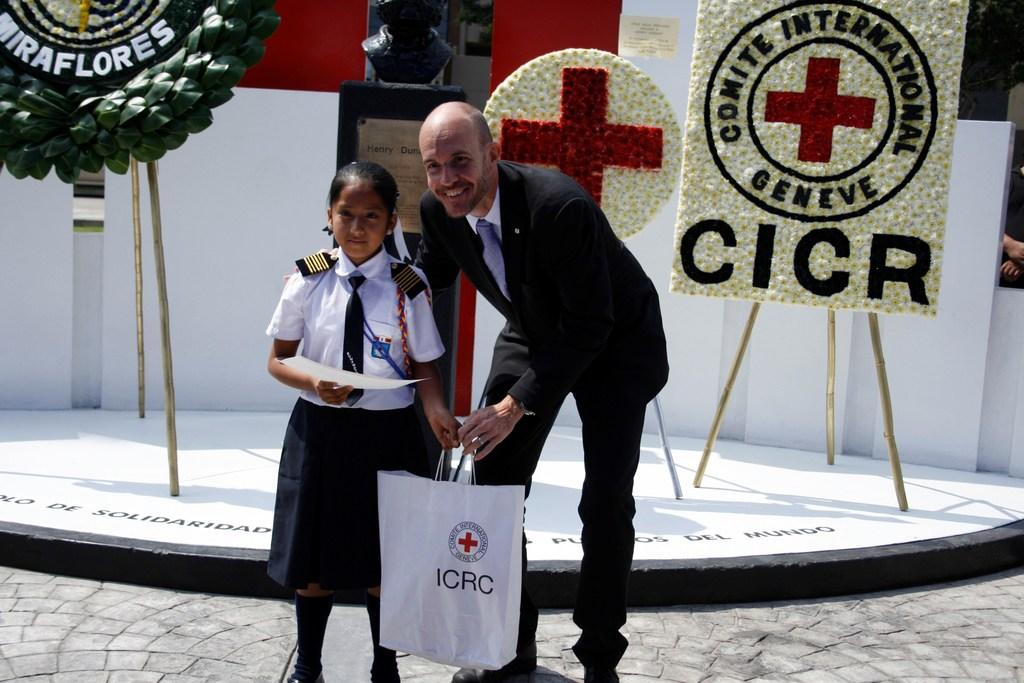Luggage-and-bags: (378, 430, 524, 671)
